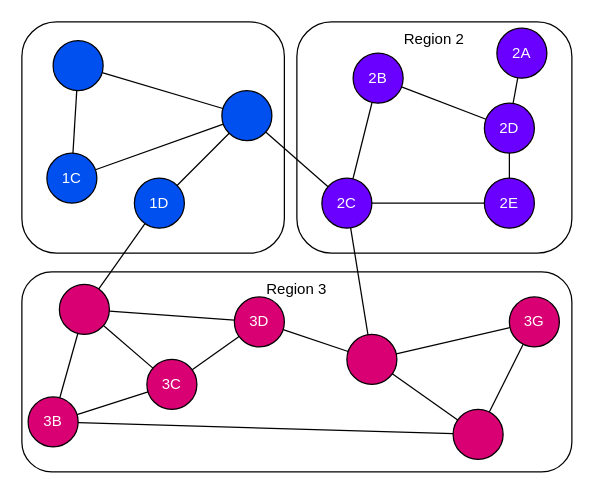
This 594x494 diagram has some shape labels left out. Here are the shapes that lost their labels. From the top down, the box of each, then its label:
(52, 39, 103, 91): 1A
(221, 89, 272, 141): 1B
(21, 21, 284, 253): Region 1
(58, 283, 109, 334): 3A
(346, 333, 397, 384): 3E
(452, 408, 503, 459): 3F
